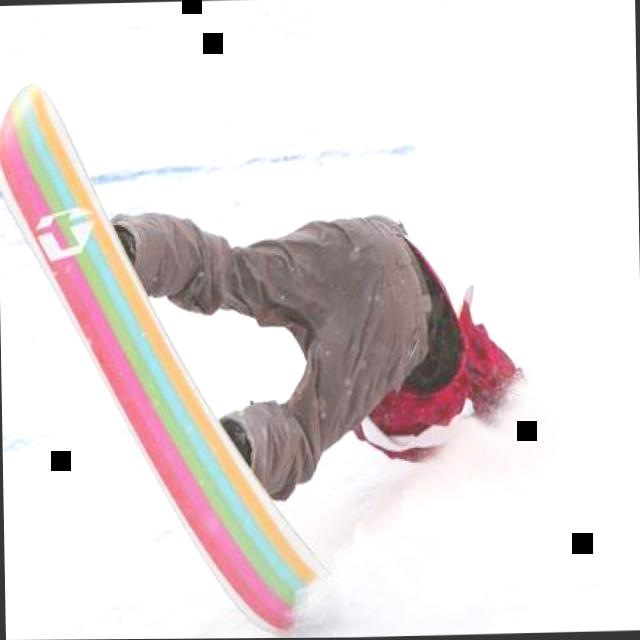Fall-Detected: (15, 85, 556, 528)
